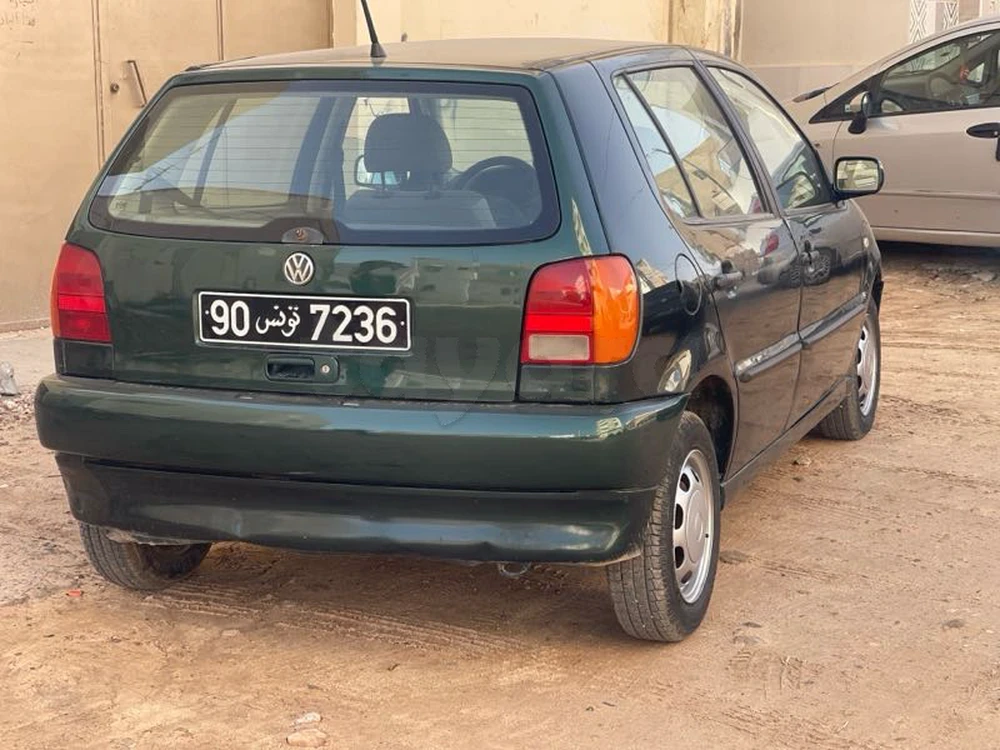volkswagen: (36, 33, 886, 650)
